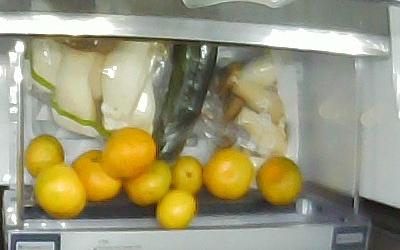tangerine: (32, 161, 86, 218), (98, 126, 156, 178), (201, 146, 254, 199), (255, 154, 303, 205), (124, 158, 172, 205), (78, 157, 123, 201), (23, 133, 64, 178), (155, 187, 196, 228), (170, 155, 202, 192), (69, 149, 103, 173)
